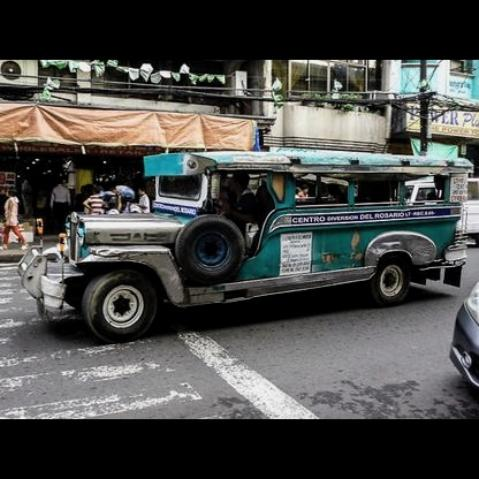jeepney: (16, 145, 471, 351)
